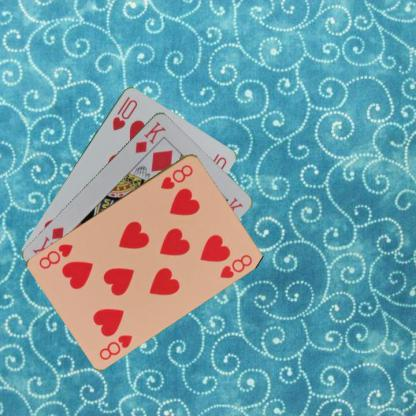10h: (109, 93, 139, 132)
8h: (158, 161, 194, 191), (97, 332, 134, 361)
Kd: (132, 118, 167, 154)
